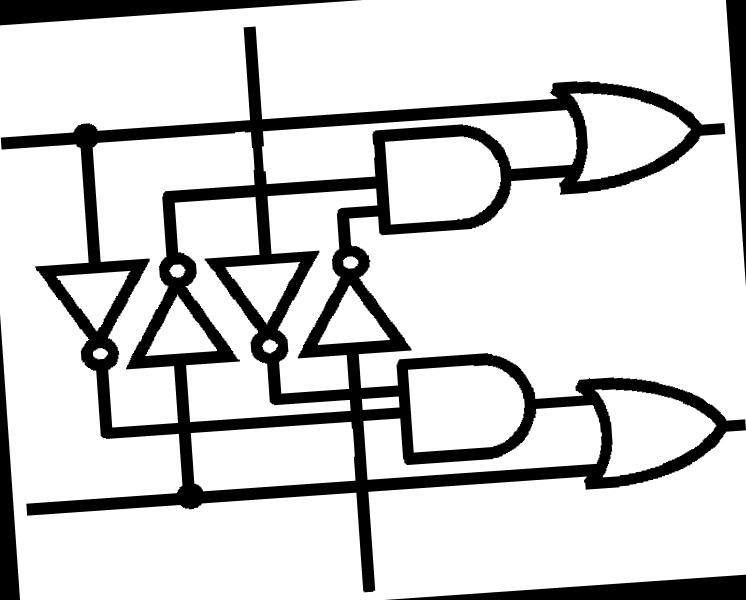and: (390, 344, 547, 471), (363, 116, 520, 241)
not: (198, 243, 335, 372), (28, 248, 158, 382), (114, 247, 247, 375), (286, 238, 416, 361)
or: (542, 63, 716, 202), (566, 361, 739, 496)
